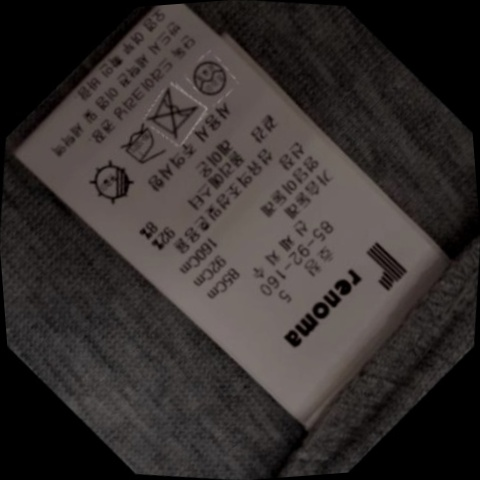DN_wash: (145, 86, 206, 141)
dry_clean_petrol_only: (187, 53, 236, 100)
iron_low: (115, 123, 169, 171)
line_dry_in_shade: (86, 158, 144, 209)
